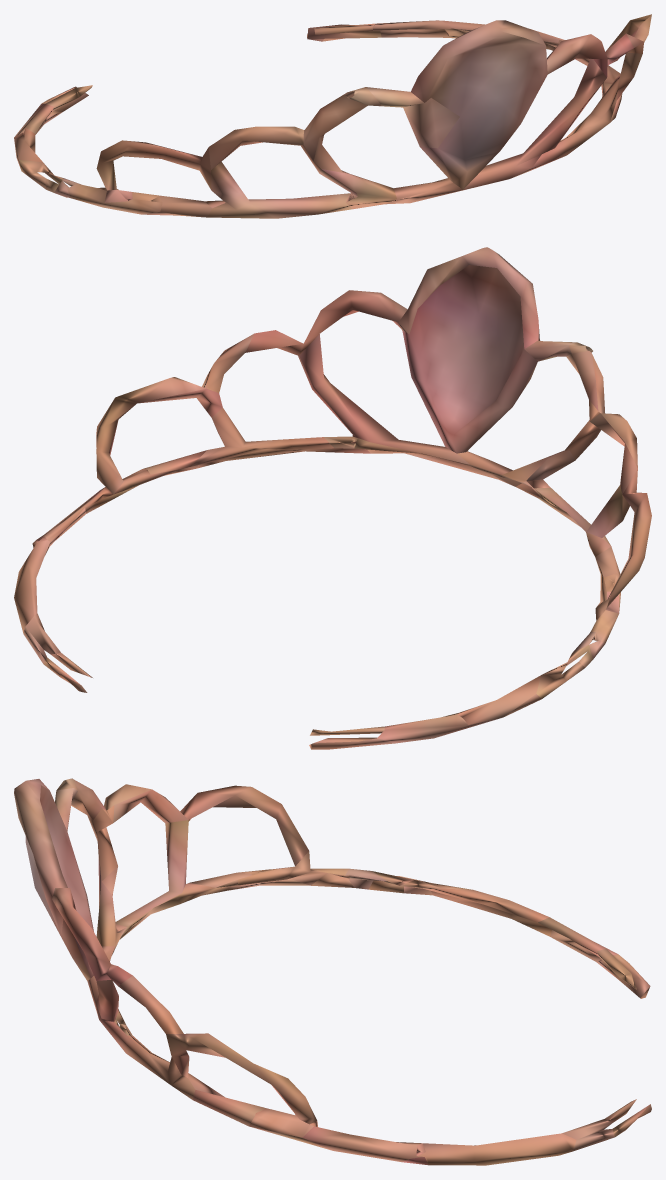
The picture shows the model from 3 angles, top to bottom: view 1: azimuth 30°, elevation 25°; view 2: azimuth 150°, elevation 25°; view 3: azimuth 270°, elevation 25°; orthographic projection. The views are drawn at different scales.
Parts seen in each view (by area): view 1: Pink-Tiara-14; view 2: Pink-Tiara-14; view 3: Pink-Tiara-14.
Part boxes in pixels (x1=…): Pink-Tiara-14: x1=14, y1=14, x2=651, y2=218; Pink-Tiara-14: x1=14, y1=247, x2=651, y2=749; Pink-Tiara-14: x1=14, y1=778, x2=651, y2=1165.
Size of the model in its own units: 0.274 by 0.125 by 0.2622.
Materials: 1 (1 with a texture image).
